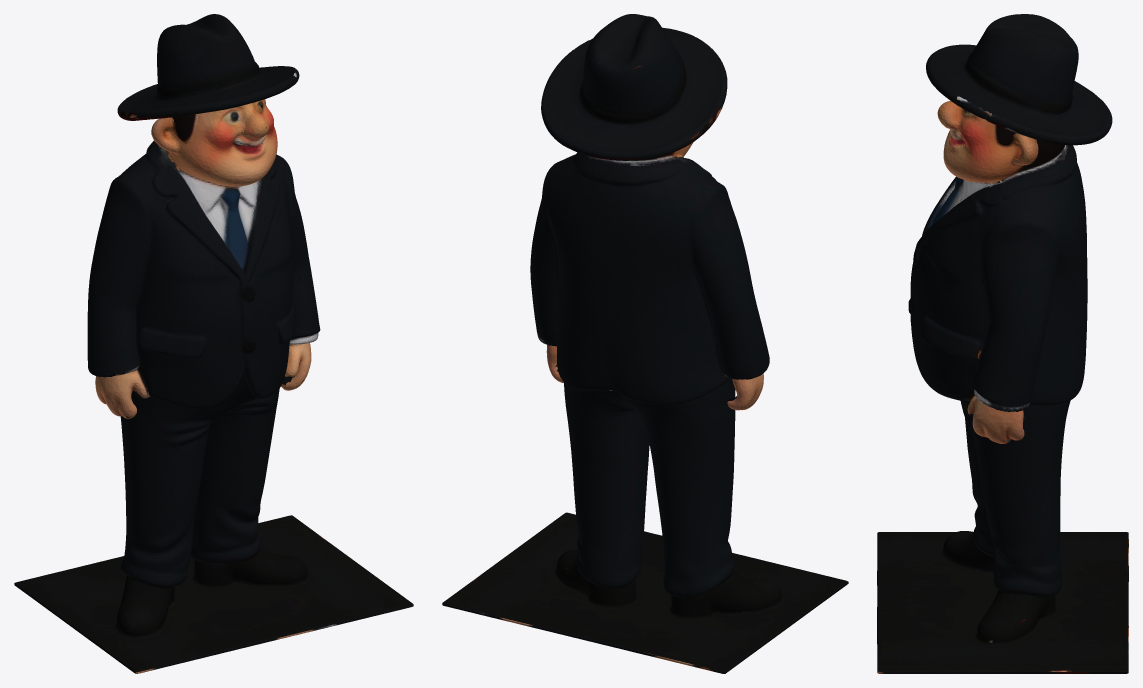
File: garak_cust_worker.glb
3 views of the same model, side by side, from view 1: azimuth 30°, elevation 25°; view 2: azimuth 150°, elevation 25°; view 3: azimuth 270°, elevation 25° (orthographic). The views are drawn at different scales.
Visible parts, largest first — view 1: garak_cust_worker.obj; view 2: garak_cust_worker.obj; view 3: garak_cust_worker.obj.
Part boxes in pixels (<box>): garak_cust_worker.obj: <box>14,14,413,673</box>; garak_cust_worker.obj: <box>442,14,848,673</box>; garak_cust_worker.obj: <box>877,14,1128,673</box>.
Size of the model in its own units: 1.01 by 1.97 by 0.7705.
Materials: 1 (1 with a texture image).
